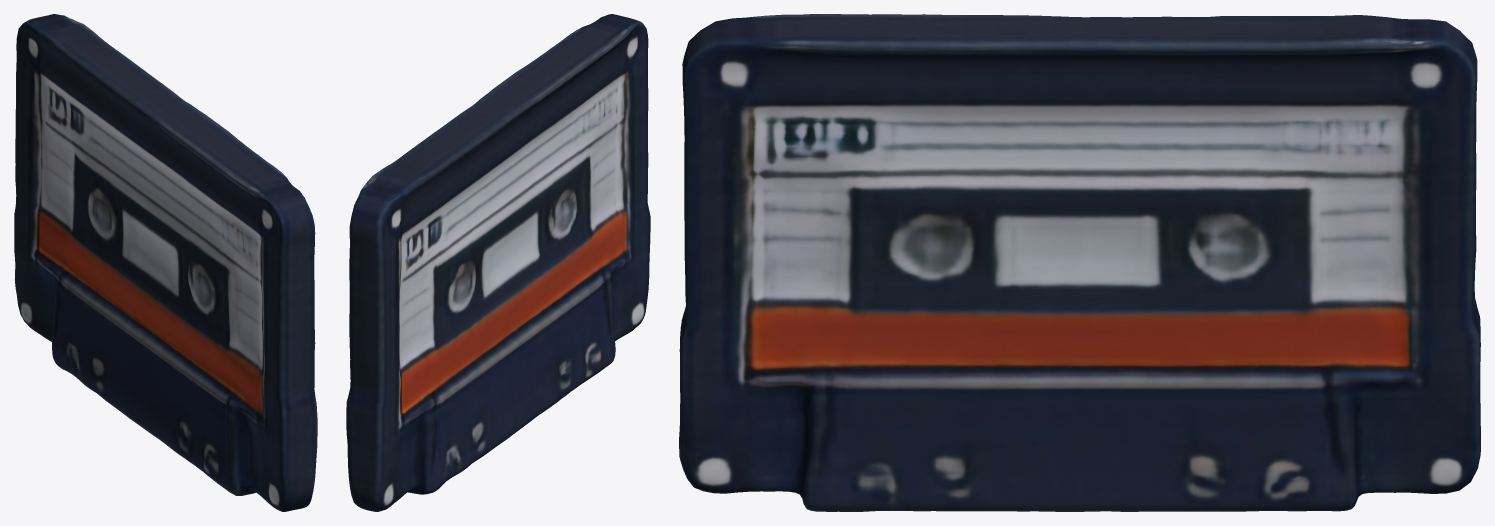
File: 76eff27ef71f_fe4c9c9f2b52_A_retro_icon_of_a_c.glb
3 views of the same model, side by side, from view 1: azimuth 30°, elevation 25°; view 2: azimuth 150°, elevation 25°; view 3: azimuth 270°, elevation 25° (orthographic). The views are drawn at different scales.
Parts seen in each view (by area): view 1: mesh; view 2: mesh; view 3: mesh.
Part boxes in pixels (<box>): mesh: <box>14,14,317,511</box>; mesh: <box>346,14,650,511</box>; mesh: <box>679,14,1480,511</box>.
Size of the model in its own units: 0.1052 by 0.6493 by 0.9997.
1 material, 1 textured.
